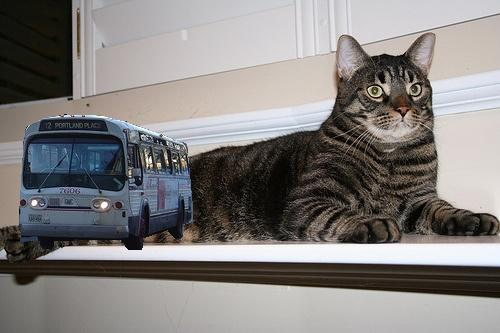tampered: (20, 115, 193, 250)
